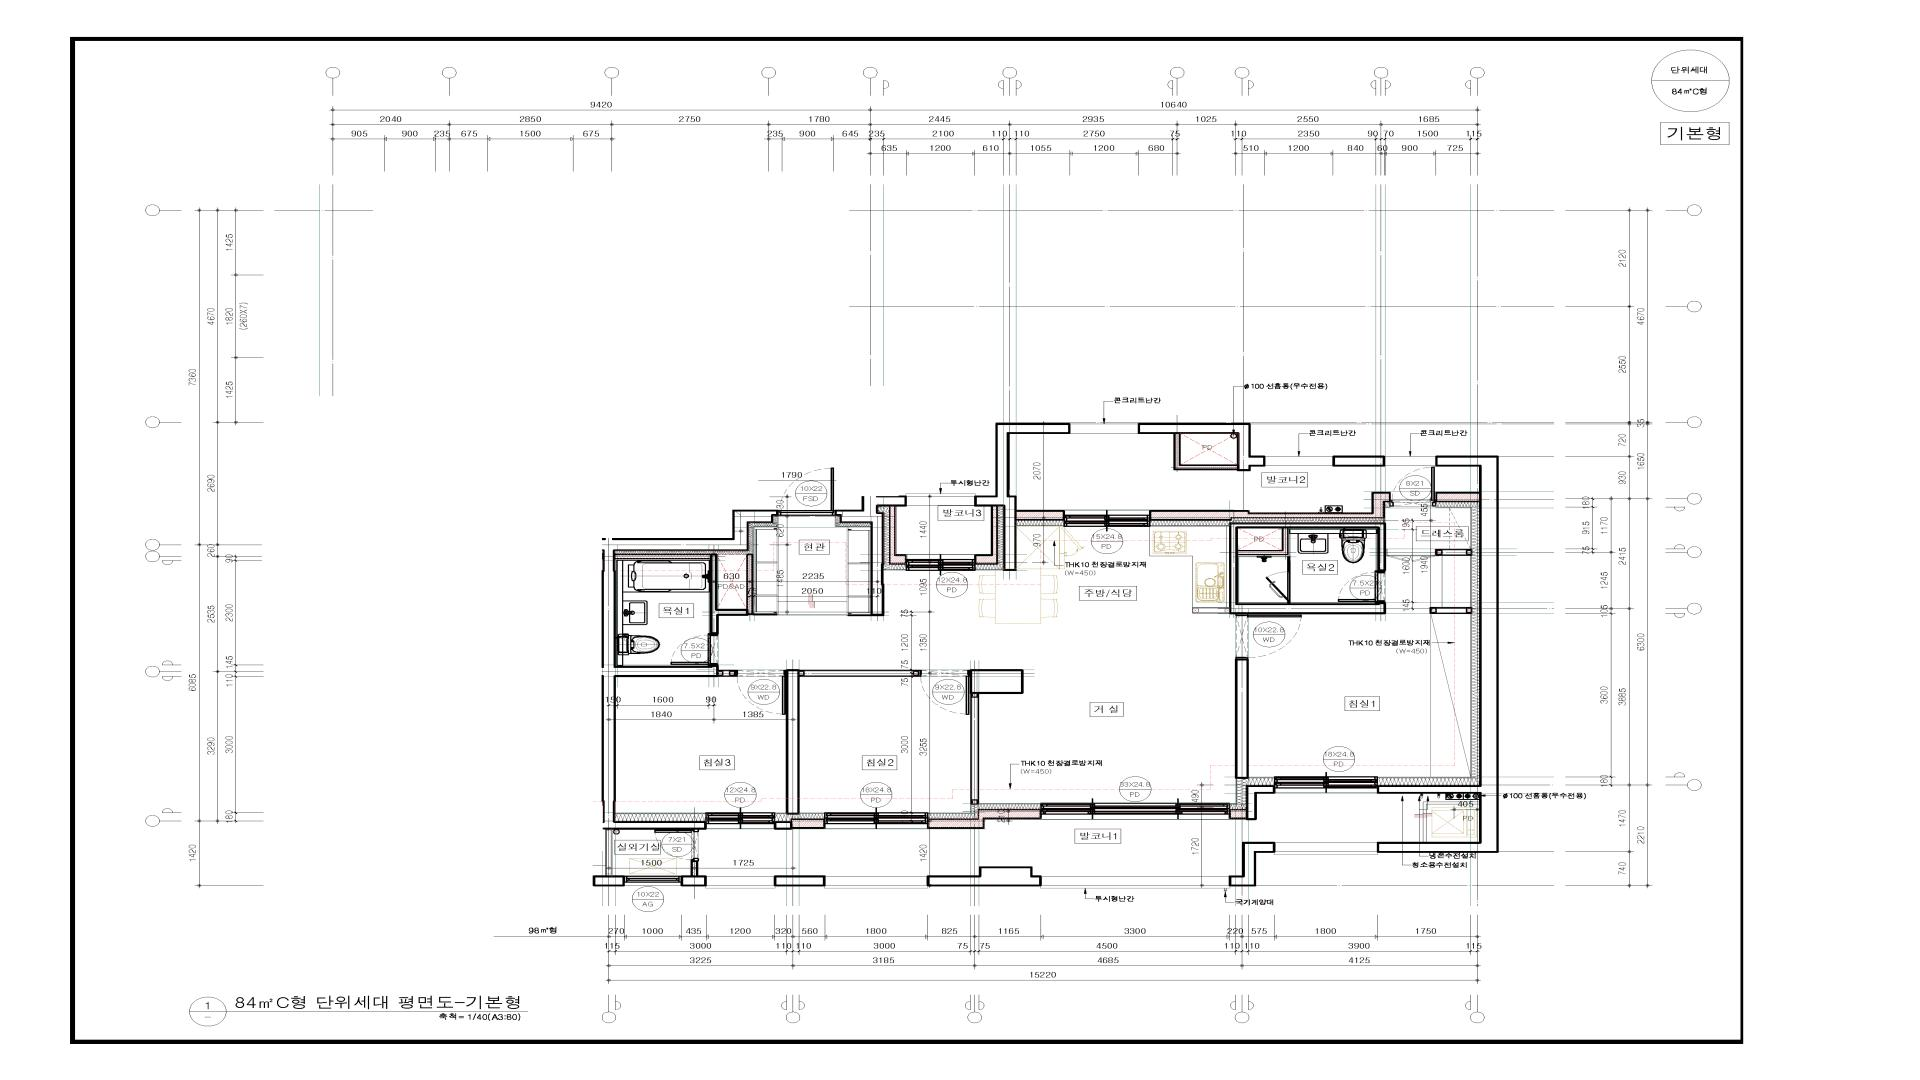door: (1236, 615, 1302, 659), (778, 467, 835, 516), (919, 670, 971, 715), (738, 670, 786, 715), (1390, 467, 1436, 506), (1337, 570, 1386, 604), (670, 633, 719, 666), (654, 829, 699, 861), (1266, 572, 1291, 601), (1386, 549, 1435, 562)
wall: (593, 510, 778, 886), (1377, 455, 1499, 853), (786, 670, 919, 815), (615, 526, 777, 633), (1229, 522, 1386, 615), (976, 423, 1071, 571), (835, 496, 906, 616), (971, 669, 1023, 804), (1150, 492, 1390, 521), (1139, 423, 1265, 471), (928, 808, 1040, 829), (928, 866, 1040, 886), (1230, 841, 1275, 886), (848, 527, 870, 616), (1174, 439, 1232, 471), (1234, 659, 1249, 779), (1238, 529, 1288, 555), (976, 506, 997, 564), (889, 506, 906, 564), (1246, 785, 1274, 820), (1332, 455, 1385, 467), (774, 876, 824, 886), (775, 819, 824, 829), (1017, 510, 1064, 521), (1436, 492, 1480, 502), (1429, 607, 1473, 615), (1435, 549, 1473, 556), (680, 876, 707, 886), (1230, 808, 1246, 820), (719, 670, 738, 676), (691, 861, 699, 876), (1287, 556, 1291, 572)
window: (1040, 803, 1230, 819), (1040, 876, 1230, 887), (824, 812, 928, 829), (1274, 777, 1378, 793), (1064, 510, 1150, 527), (824, 877, 928, 889), (1275, 843, 1378, 855), (705, 812, 775, 829), (906, 554, 976, 571), (906, 493, 976, 506), (707, 876, 774, 889), (1265, 456, 1333, 467), (1071, 423, 1139, 434), (625, 876, 680, 886), (1385, 456, 1436, 465)
